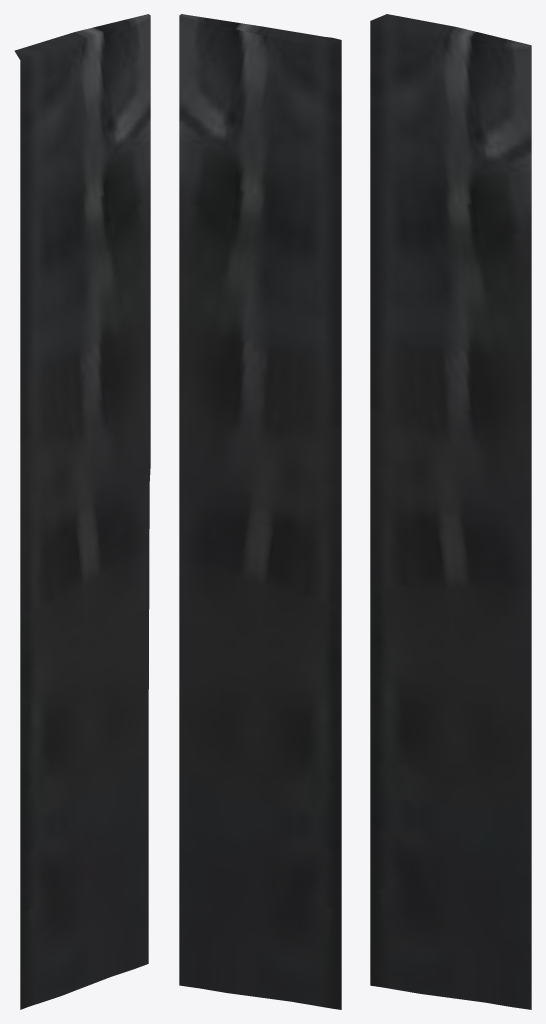
The model's file is z20-167775-405233-h1-yup-uvflip-v3-world.glb.
3 views of the same model, side by side, from view 1: azimuth 30°, elevation 25°; view 2: azimuth 150°, elevation 25°; view 3: azimuth 330°, elevation 25° (orthographic). The views are drawn at different scales.
Size of the model in its own units: 3.28 by 20.72 by 0.6.
Materials: 1 (1 with a texture image).
